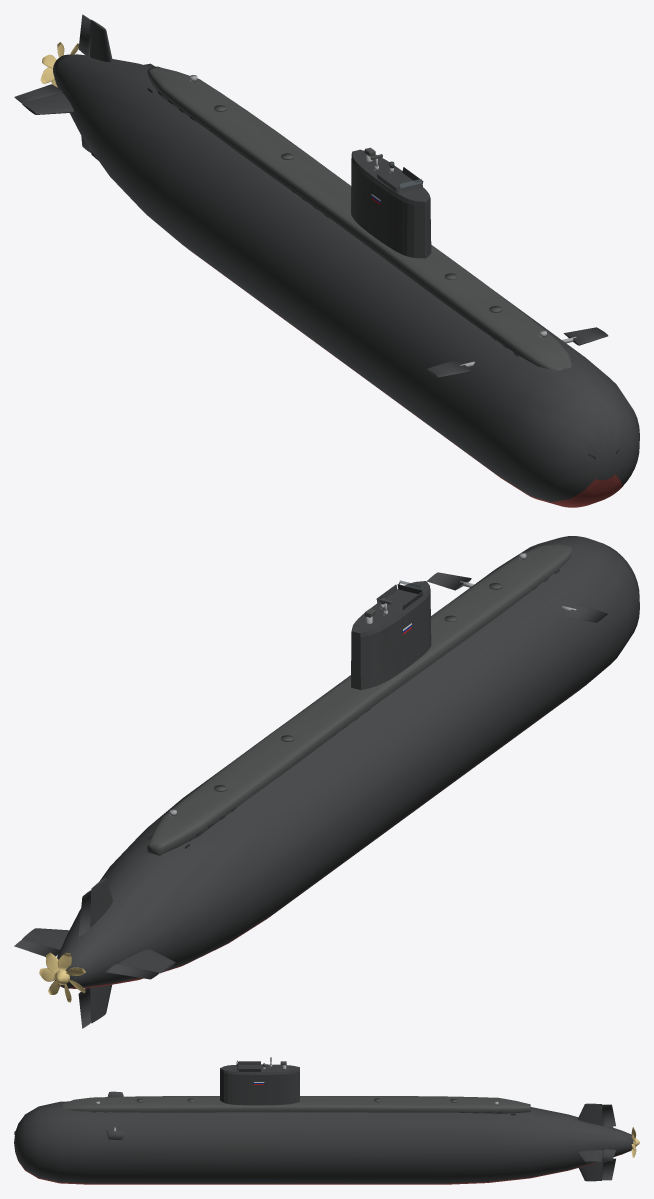
3 renders of one model, top to bottom at view 1: azimuth 30°, elevation 25°; view 2: azimuth 150°, elevation 25°; view 3: azimuth 270°, elevation 25°, orthographic. The views are drawn at different scales.
Visible parts, largest first — view 1: sub636_body, planes_bow_geo; view 2: sub636_body, prop_geo, planes_bow_geo, planes_stern_geo, rudder_geo; view 3: sub636_body, rudder_geo, planes_bow_geo.
Part boxes in pixels (box(x1,y1,x2,y2)): sub636_body: box(22, 19, 639, 507); planes_bow_geo: box(427, 327, 608, 377); sub636_body: box(22, 536, 639, 1023); prop_geo: box(39, 952, 85, 1002); planes_bow_geo: box(427, 572, 608, 622); planes_stern_geo: box(14, 939, 159, 979); rudder_geo: box(78, 890, 91, 1028); sub636_body: box(14, 1060, 633, 1184); rudder_geo: box(602, 1104, 615, 1180); planes_bow_geo: box(106, 1091, 124, 1140).
Bounding box in the file's own units: 13.2 × 15.73 × 73.8.
13 materials, 1 textured.
